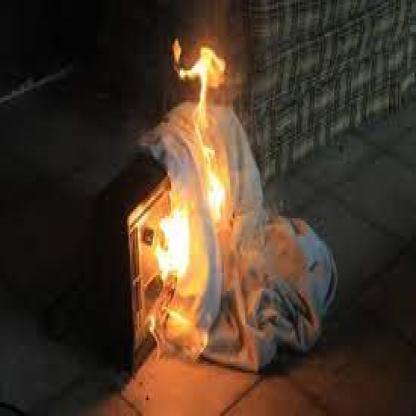fire: (140, 44, 240, 361)
